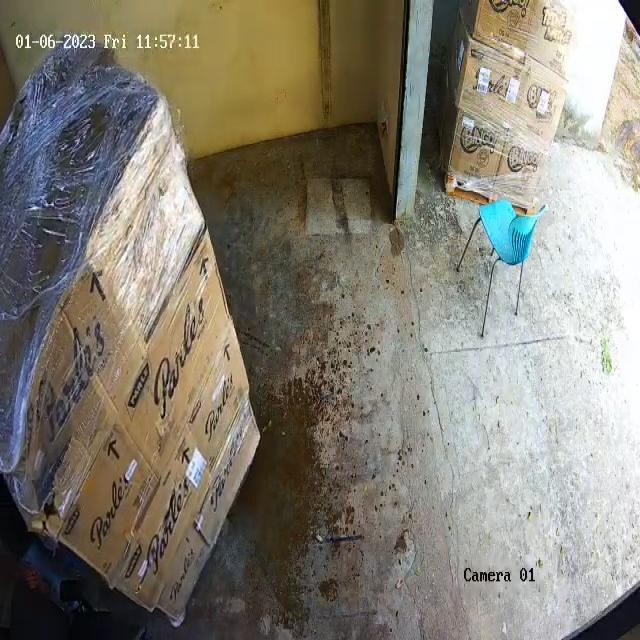squeeze: (7, 304, 82, 523)
